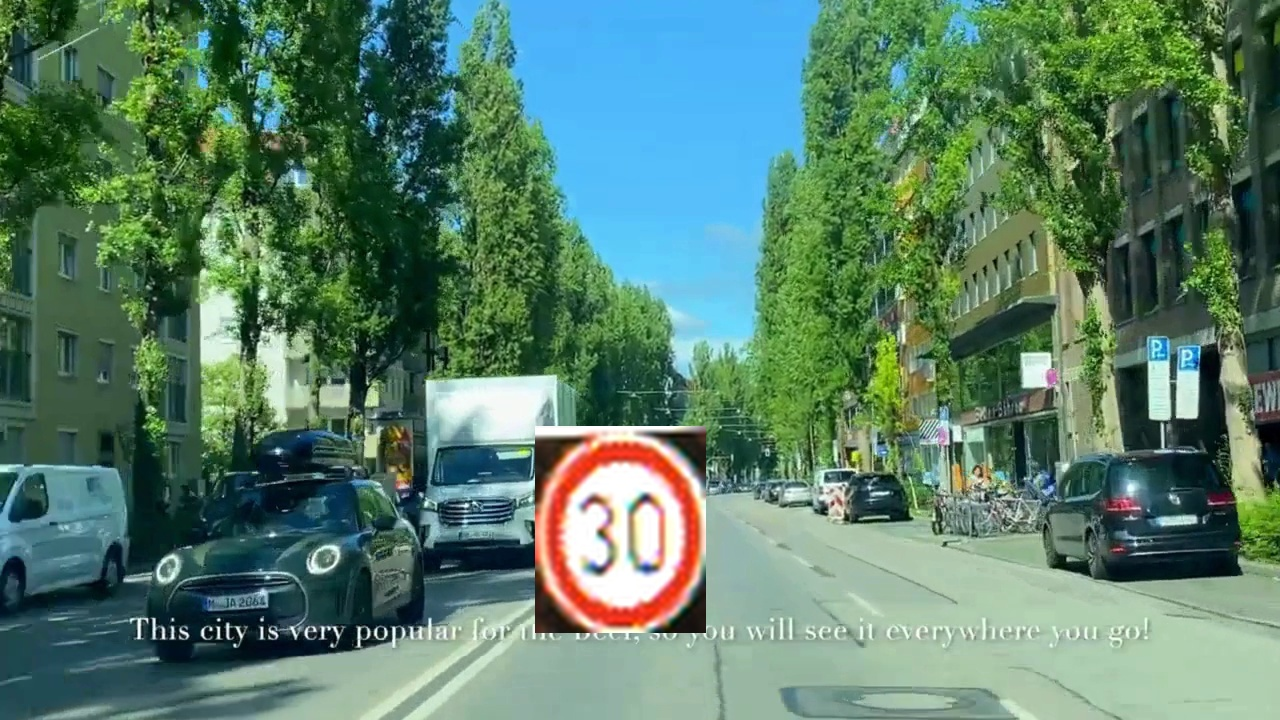Speed 30: (535, 426, 706, 633)
